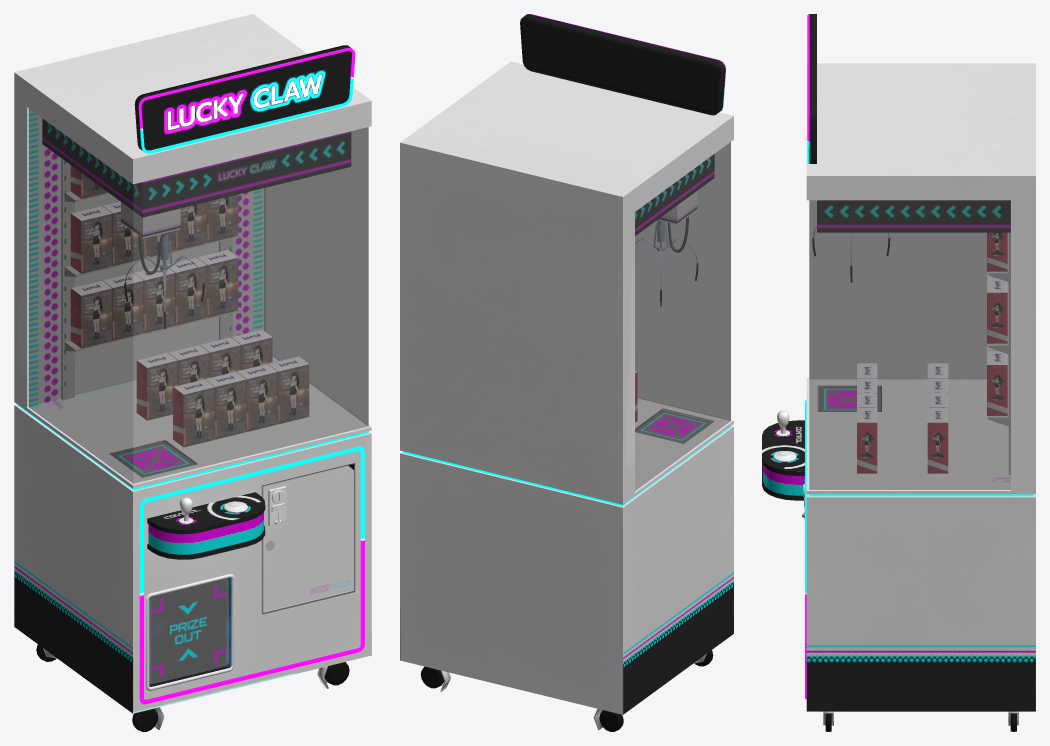
Rendered from claw_machine.glb.
3 views of the same model, side by side, from view 1: azimuth 30°, elevation 25°; view 2: azimuth 150°, elevation 25°; view 3: azimuth 270°, elevation 25° (orthographic). The views are drawn at different scales.
Parts seen in each view (by area): view 1: claw_machine_01, FigureBox1, FigureBox2; view 2: claw_machine_01; view 3: claw_machine_01, FigureBox2, FigureBox1.
Part boxes in pixels (x1,y1,x2,y2): claw_machine_01: [14, 14, 371, 731]; FigureBox1: [70, 165, 238, 348]; FigureBox2: [136, 329, 309, 447]; claw_machine_01: [400, 14, 733, 731]; claw_machine_01: [762, 14, 1035, 731]; FigureBox2: [857, 363, 948, 473]; FigureBox1: [987, 232, 1007, 415].
Size of the model in its own units: 0.8518 by 2.19 by 0.8753.
Materials: 3 (3 with a texture image).
